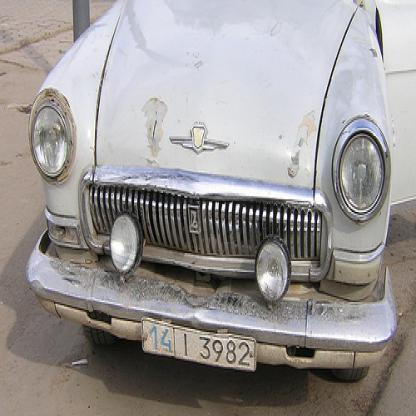car: (26, 0, 415, 381)
